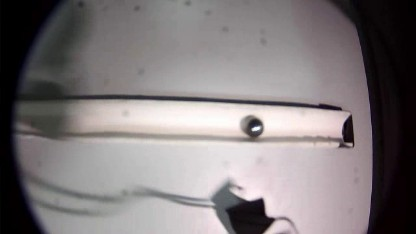gangzhu: (245, 117, 265, 138)
